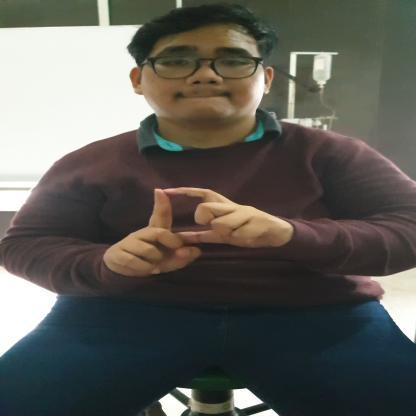D: (103, 187, 281, 278)
